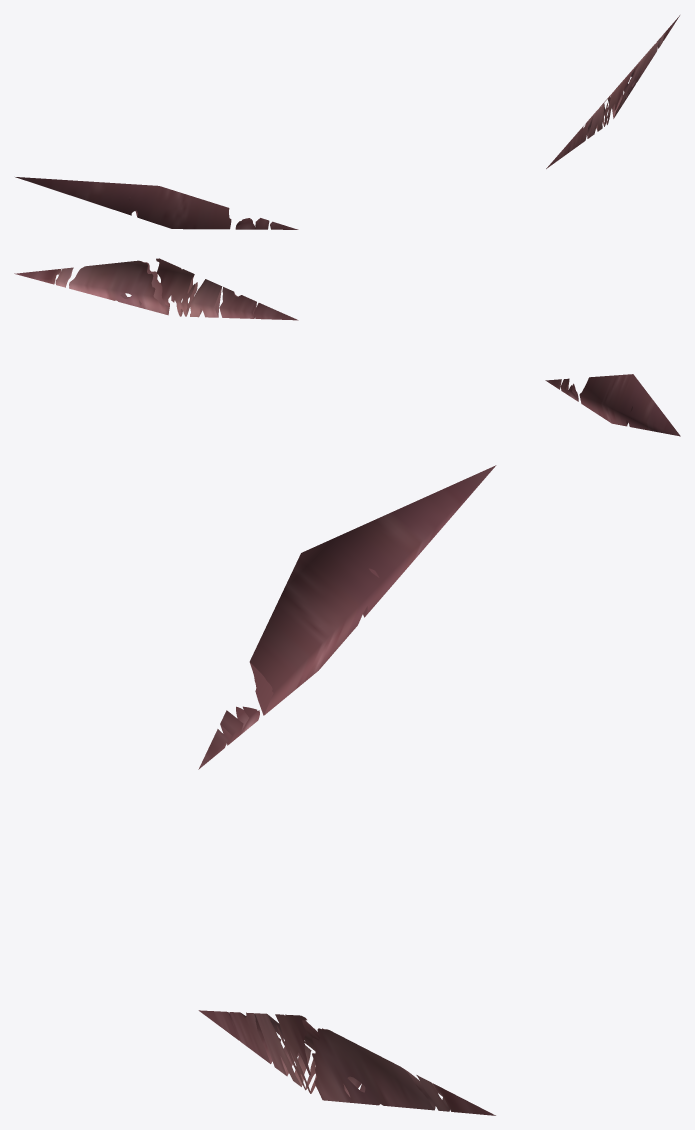
The picture shows the model from 3 angles, top to bottom: view 1: azimuth 30°, elevation 25°; view 2: azimuth 150°, elevation 25°; view 3: azimuth 270°, elevation 25°; orthographic projection. The views are drawn at different scales.
Visible parts, largest first — view 1: SM_Planter_UltraCompost_01_LOD0; view 2: SM_Planter_UltraCompost_01_LOD0; view 3: SM_Planter_UltraCompost_01_LOD0.
Part boxes in pixels (x1,y1,x2,y2): SM_Planter_UltraCompost_01_LOD0: [15, 15, 679, 229]; SM_Planter_UltraCompost_01_LOD0: [14, 258, 680, 436]; SM_Planter_UltraCompost_01_LOD0: [198, 465, 496, 1115].
Size of the model in its own units: 0.1432 by 0.0109 by 0.0277.
